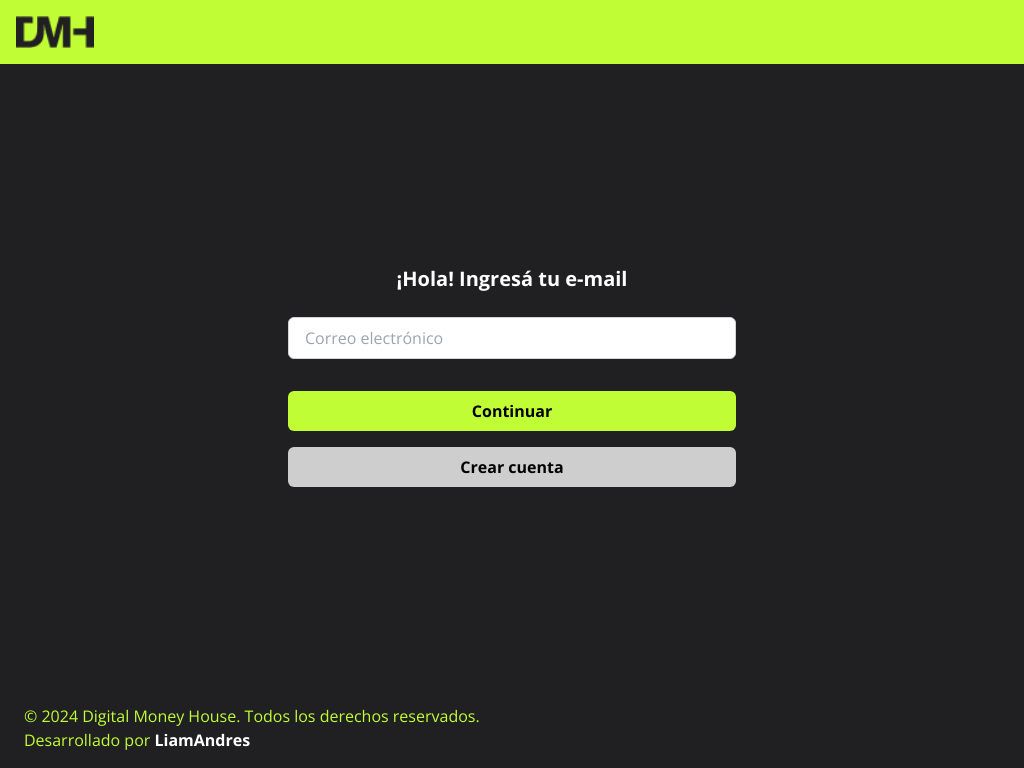
Test: Formulario de Login › Muestra error si la contraseña está vacía
# Paso 1: Ingresar email válido y continuar
Type "correo@valido.com" into the field with placeholder "Correo electrónico" at (512, 338), box [288, 317, 736, 359]
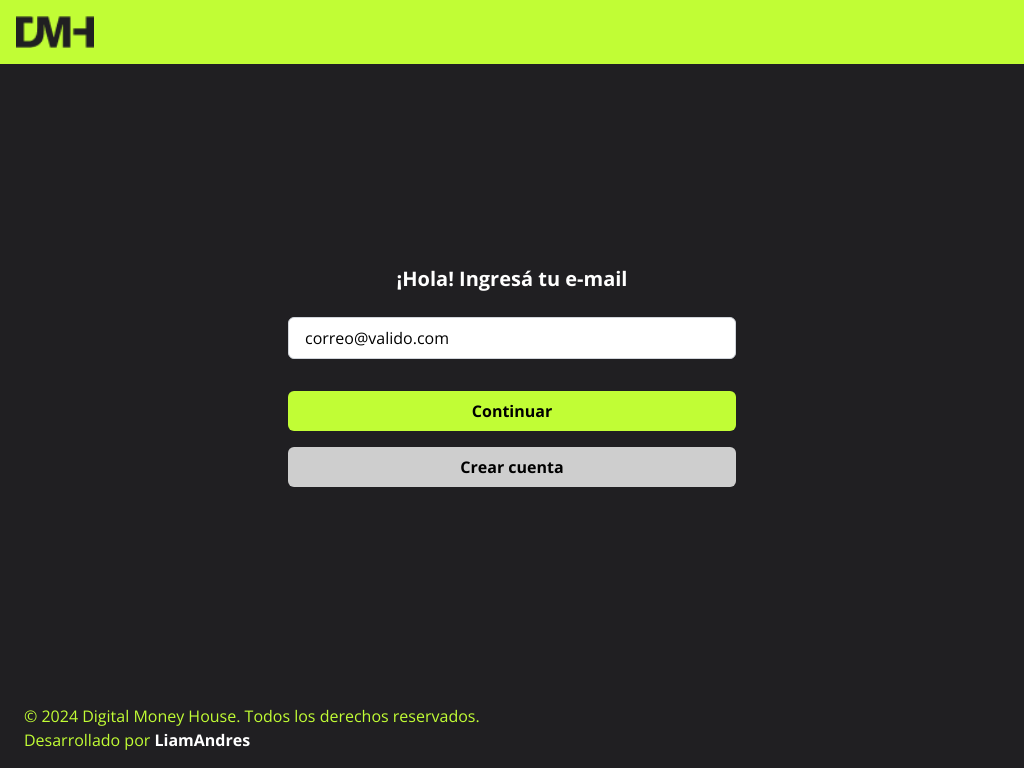
Click the button "Continuar" at (512, 411), box [288, 391, 736, 431]
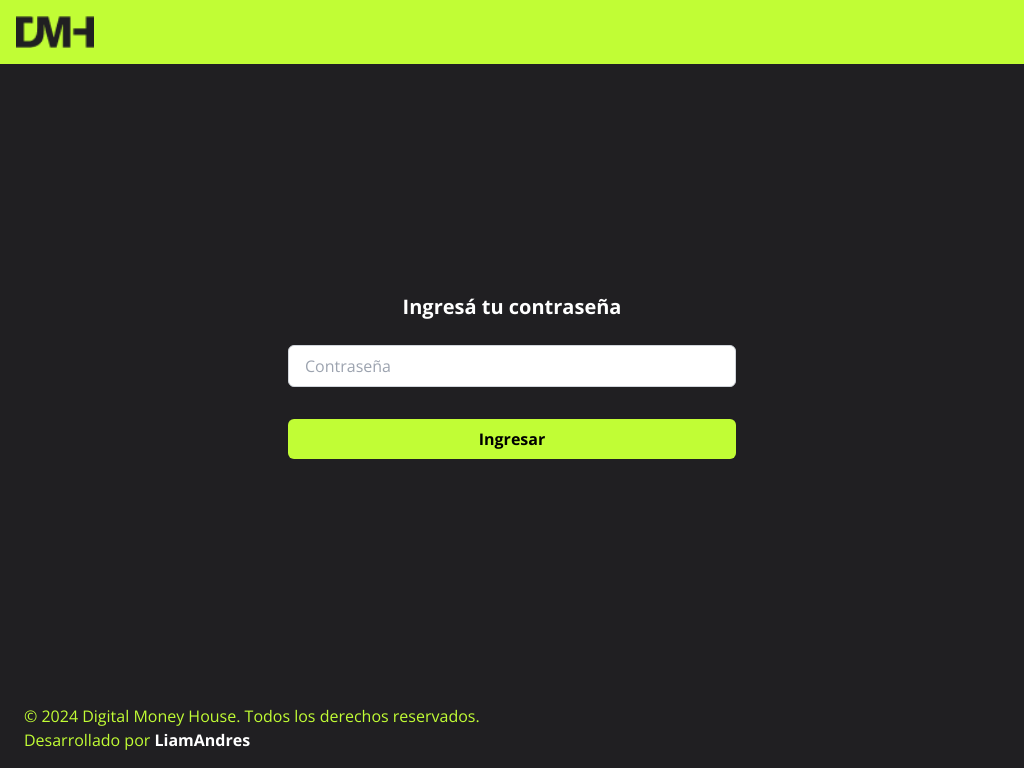
# Simular que el usuario no escribe nada y pierde el foco
Leave the password field with placeholder "Contraseña", box [288, 345, 736, 387]
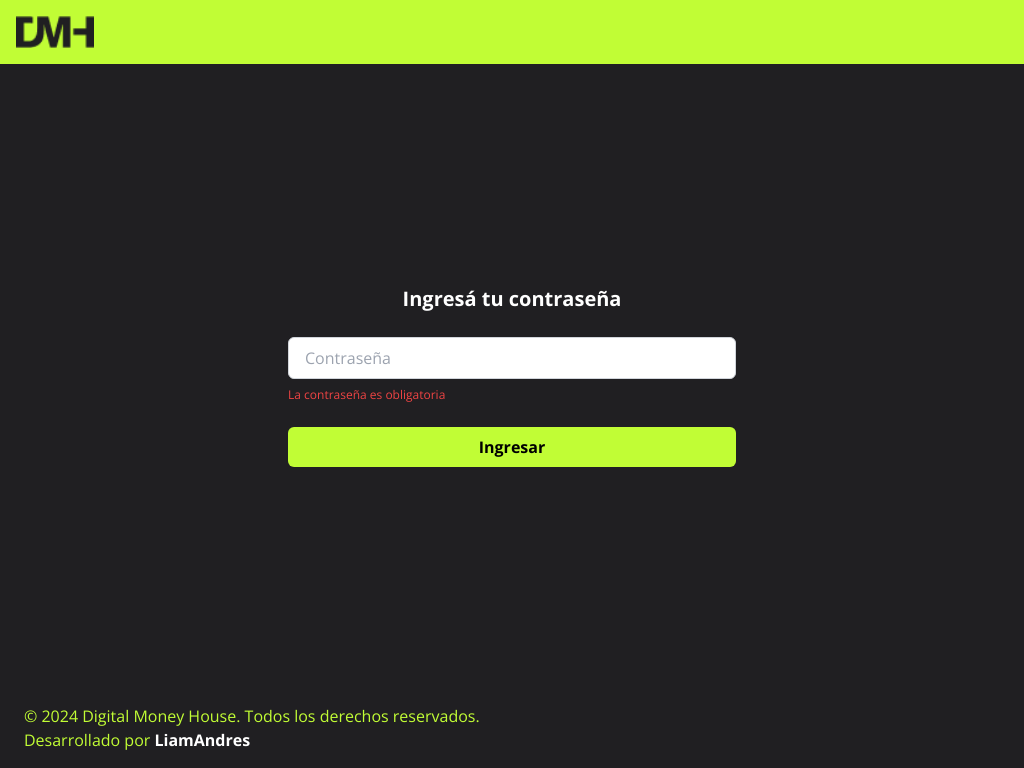
Expected: the text "La contraseña es obligatoria" is shown, [288, 386, 445, 403]
